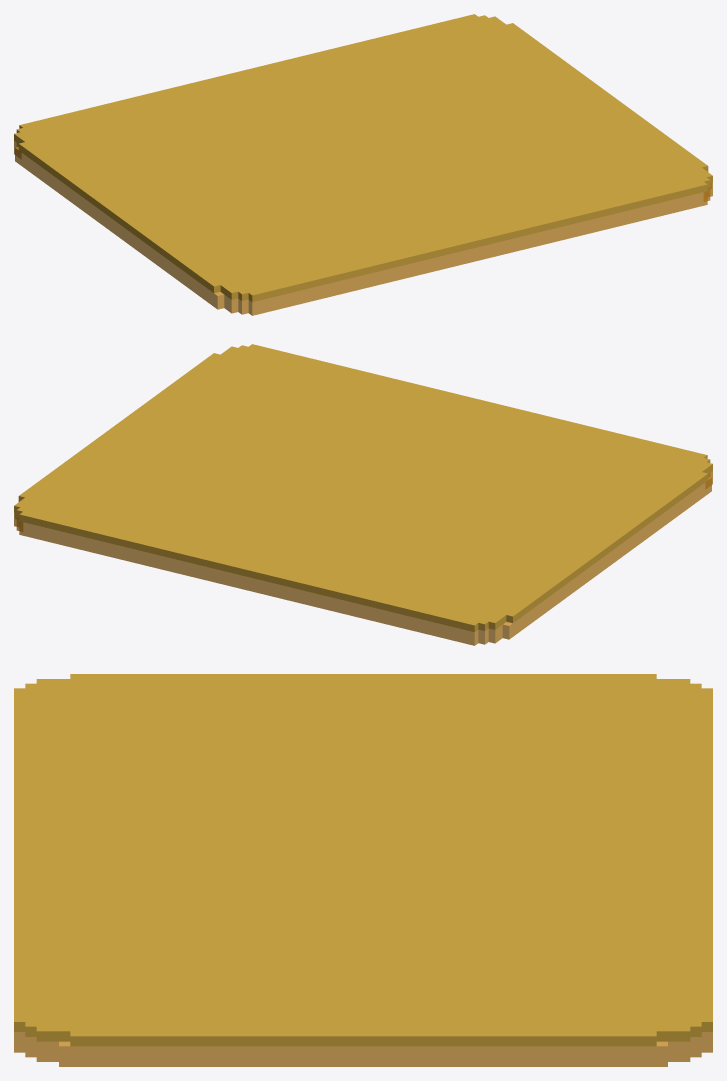
The model's file is rigid_kevlar_plate.glb.
The picture shows the model from 3 angles, top to bottom: view 1: azimuth 30°, elevation 25°; view 2: azimuth 150°, elevation 25°; view 3: azimuth 270°, elevation 25°; orthographic projection. The views are drawn at different scales.
Visible parts, largest first — view 1: rigid_kevlar_plate:compound; view 2: rigid_kevlar_plate:compound; view 3: rigid_kevlar_plate:compound.
Boxes of the visible parts, x1=… form: rigid_kevlar_plate:compound: x1=14, y1=14, x2=712, y2=315; rigid_kevlar_plate:compound: x1=14, y1=344, x2=712, y2=645; rigid_kevlar_plate:compound: x1=14, y1=674, x2=712, y2=1066.
Bounding box in the file's own units: 0.304 × 0.012 × 0.248.
